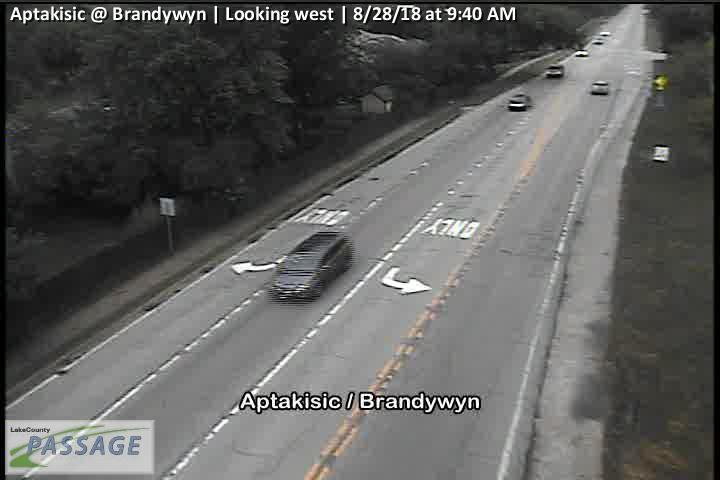SUV: (269, 229, 351, 302)
